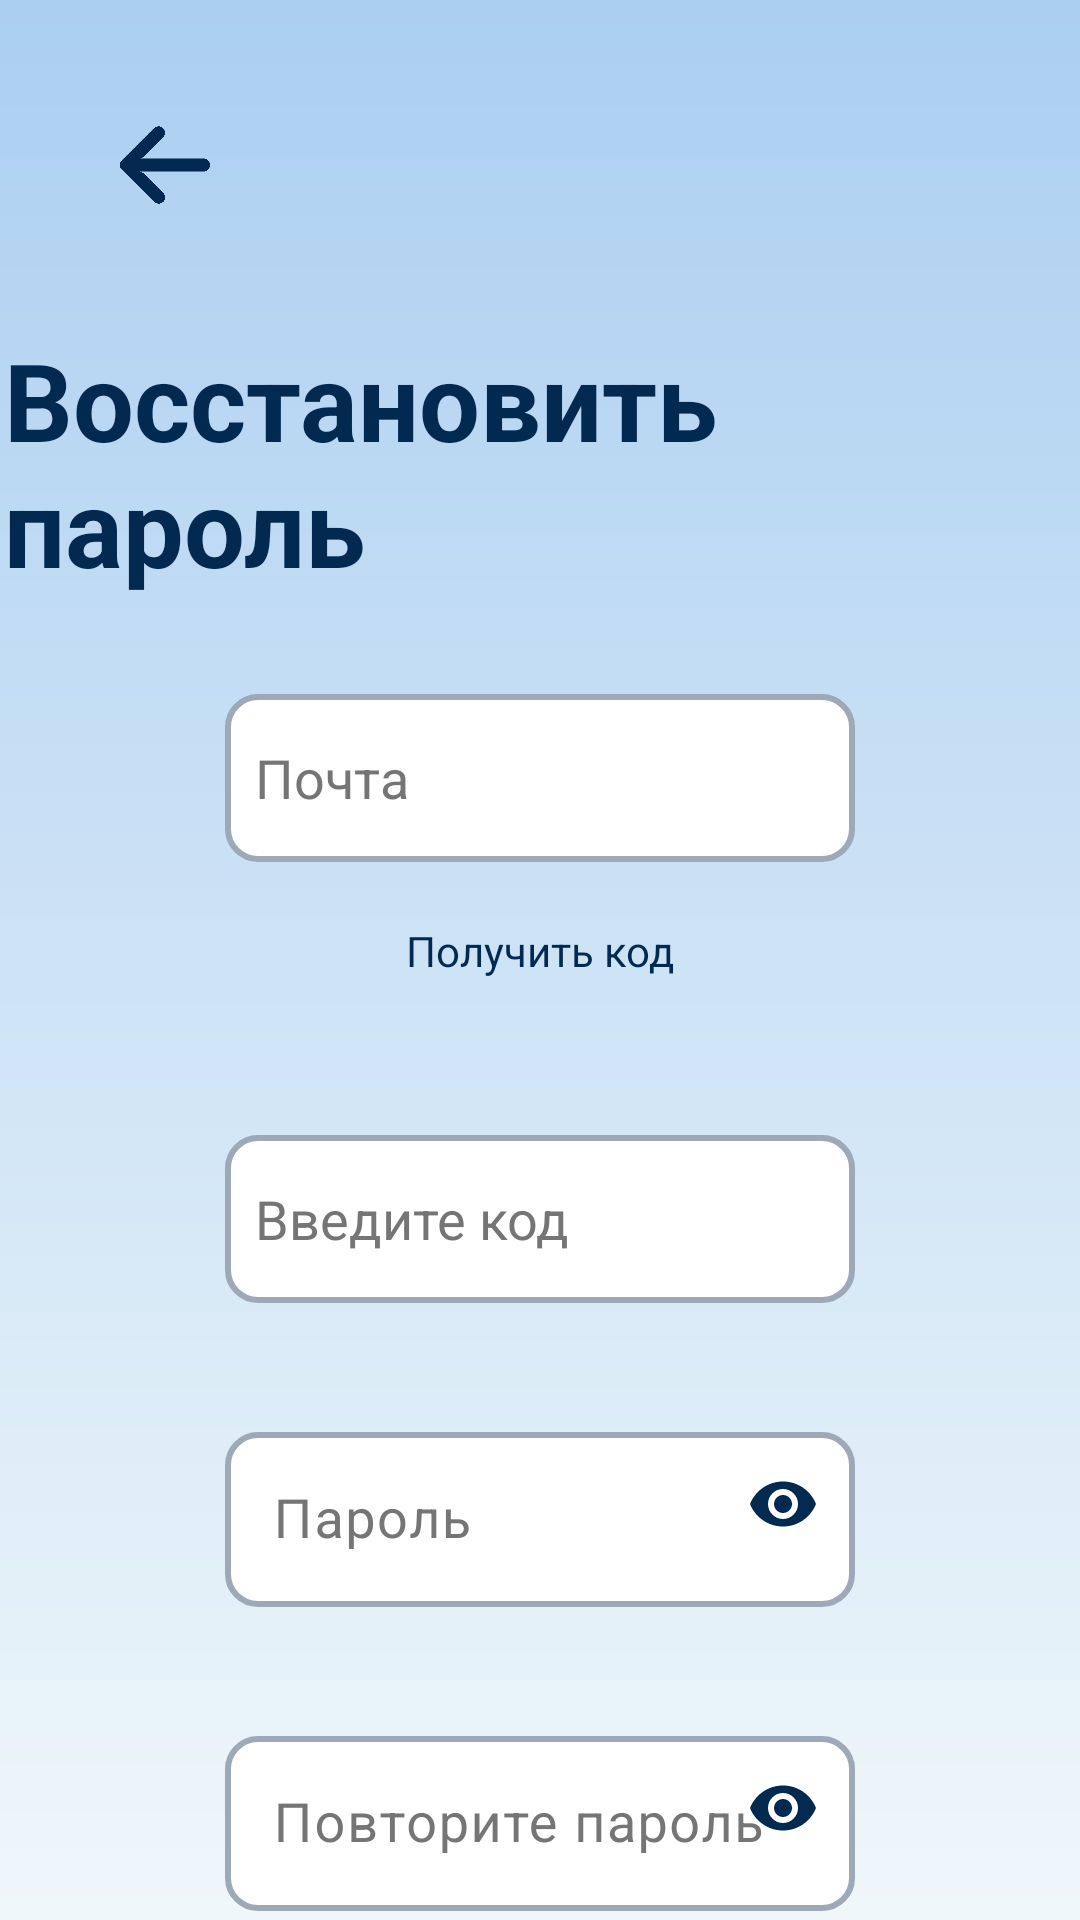

Where icons sit on this 1080 x 1920 app screen, as box=[x1, y1, x2, y2]:
arrow: box=[120, 126, 210, 204]
